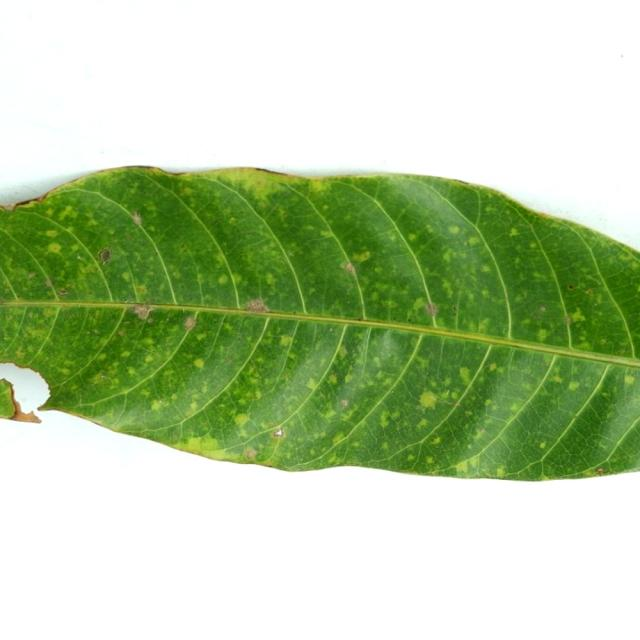Mango: (0, 166, 639, 479)
Powdery_Mildew: (414, 385, 444, 414), (129, 303, 154, 321), (446, 221, 466, 243), (197, 435, 221, 452), (244, 298, 270, 313), (23, 324, 46, 340), (184, 436, 206, 451), (183, 314, 198, 331), (351, 250, 371, 262), (569, 309, 586, 323), (477, 317, 491, 334), (459, 366, 472, 384), (424, 302, 439, 317), (59, 206, 75, 220), (441, 281, 454, 298), (377, 373, 395, 385), (233, 414, 250, 426), (412, 298, 427, 311), (379, 412, 391, 428), (322, 407, 338, 419), (455, 460, 469, 473), (343, 262, 357, 275), (537, 328, 549, 342), (305, 379, 319, 391), (47, 242, 61, 253), (279, 335, 293, 346), (442, 249, 453, 263), (150, 399, 163, 410), (332, 434, 345, 445), (265, 273, 276, 286), (467, 236, 481, 246), (134, 284, 148, 294), (416, 418, 428, 429), (217, 274, 229, 285), (624, 374, 636, 385), (245, 448, 257, 459), (447, 225, 461, 234), (193, 358, 204, 369), (568, 381, 580, 391), (509, 402, 521, 412), (320, 229, 333, 238), (327, 374, 338, 384), (496, 465, 506, 476), (487, 363, 498, 372), (121, 273, 132, 282), (508, 229, 520, 237), (45, 230, 57, 238), (481, 265, 491, 274), (127, 367, 137, 376), (370, 292, 379, 301), (407, 233, 417, 241), (16, 350, 26, 358), (564, 315, 572, 325), (432, 436, 441, 444), (145, 355, 154, 363), (381, 442, 389, 451), (373, 266, 382, 274), (340, 347, 348, 356), (426, 456, 434, 464), (341, 399, 349, 407), (529, 242, 538, 249), (121, 350, 130, 357), (229, 217, 237, 224), (484, 399, 492, 406), (539, 442, 546, 449), (407, 454, 415, 460), (585, 289, 593, 295), (322, 205, 329, 211)
